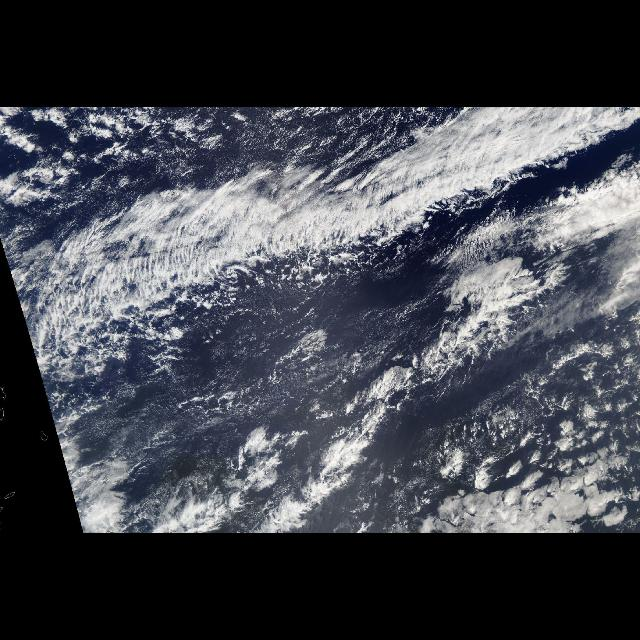Fish: (53, 167, 335, 327)
Flower: (471, 328, 635, 516)
Gravel: (148, 286, 370, 457)
